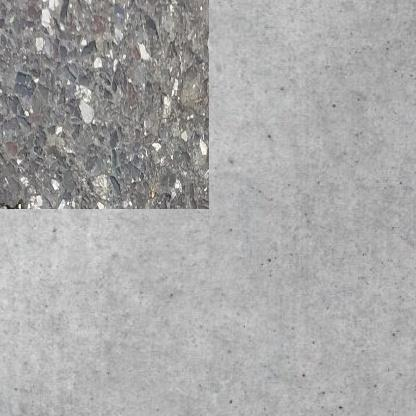Cracks: (0, 160, 24, 193)
